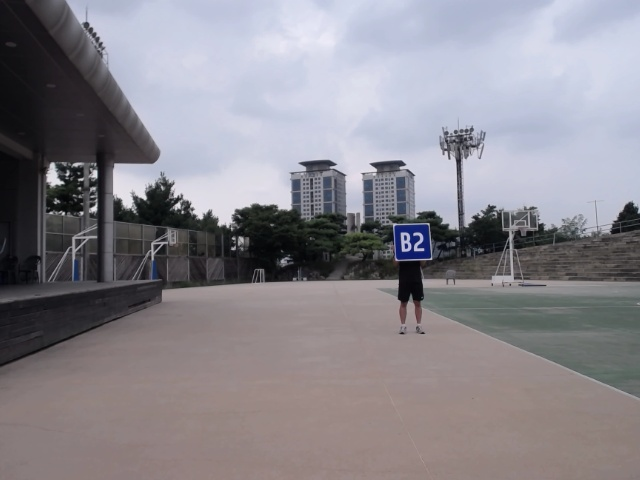delivery_b2: (392, 222, 434, 262)
